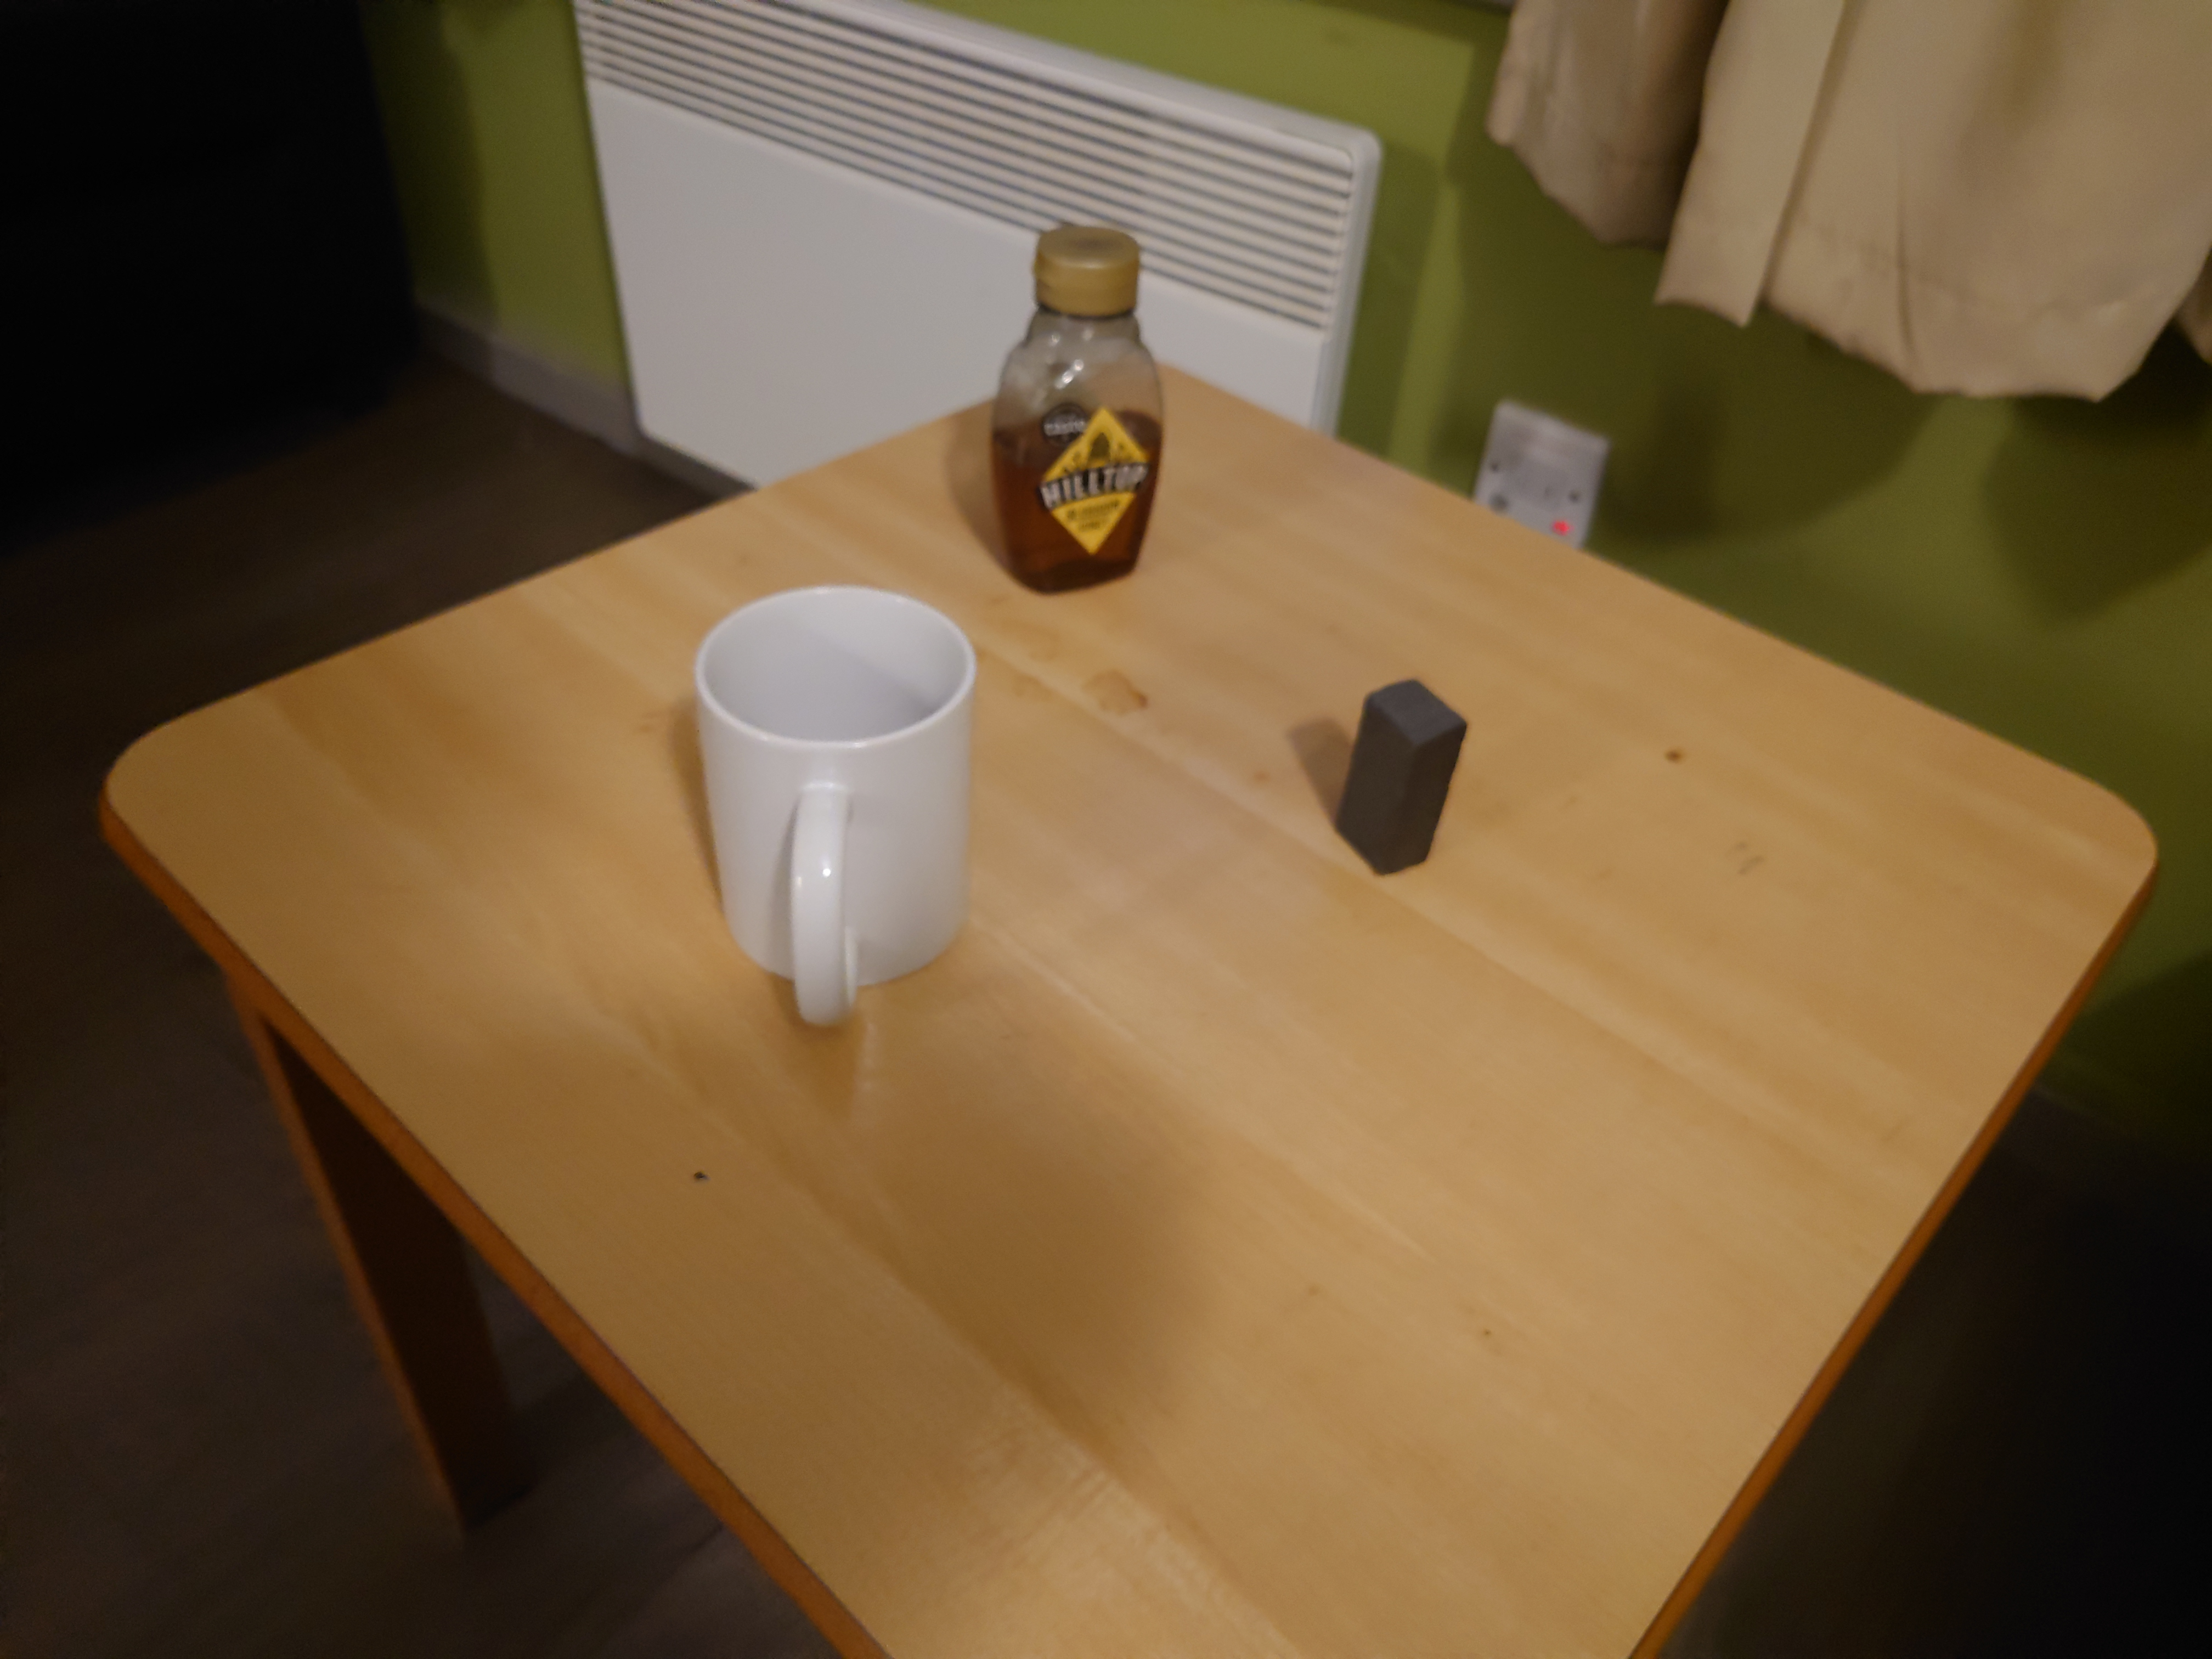cup: (691, 584, 979, 1028)
target: (1332, 681, 1467, 875)
